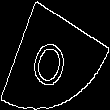O_NE: (32, 22, 78, 88)
